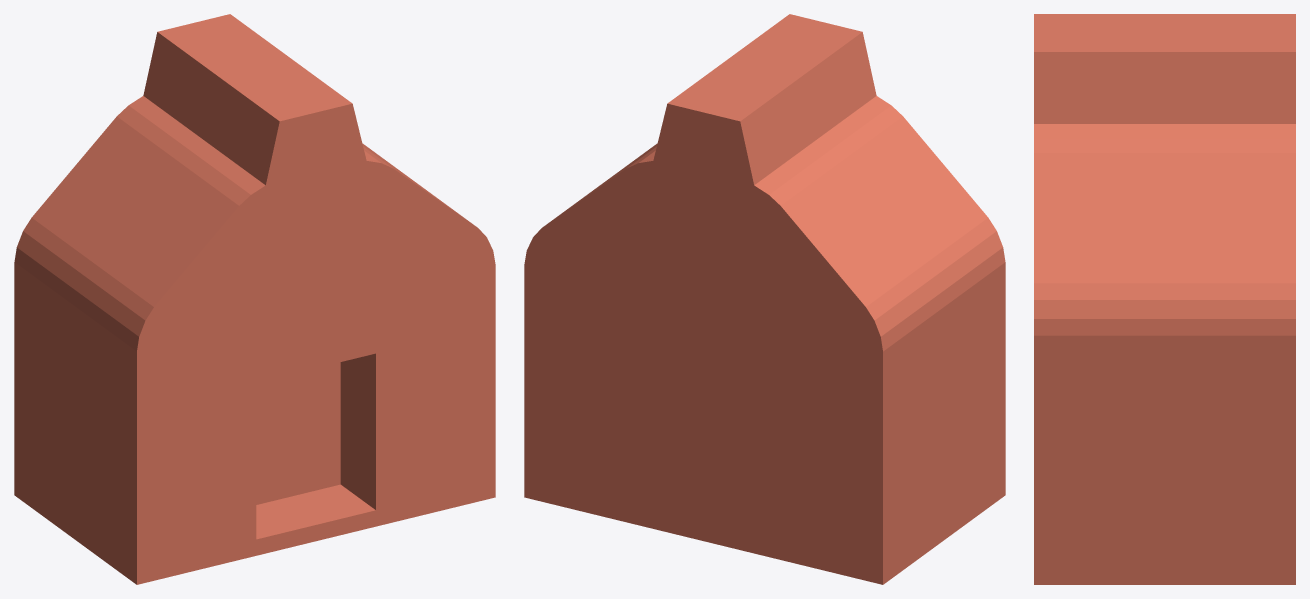
File: Fireplace 1.fbx
3 views of the same model, side by side, from view 1: azimuth 30°, elevation 25°; view 2: azimuth 150°, elevation 25°; view 3: azimuth 270°, elevation 25° (orthographic). The views are drawn at different scales.
Visible parts, largest first — view 1: Fireplace; view 2: Fireplace; view 3: Fireplace.
Part boxes in pixels (x1,y1,x2,y2): Fireplace: [14, 14, 495, 584]; Fireplace: [524, 14, 1005, 584]; Fireplace: [1034, 14, 1295, 584].
Size of the model in its own units: 180 by 206 by 106.
